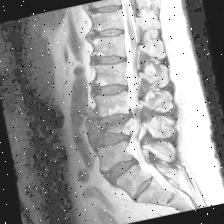disc: (99, 154, 144, 184), (125, 172, 164, 204), (89, 75, 132, 104), (88, 45, 131, 73), (84, 20, 128, 47), (89, 0, 127, 20)
hdisc: (90, 104, 138, 134), (96, 130, 136, 154)
